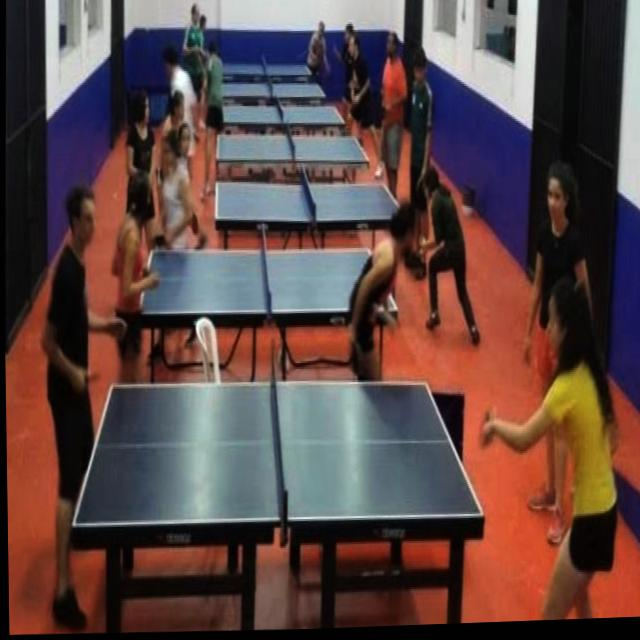TT Net: (267, 353, 289, 556), (259, 215, 274, 328), (300, 163, 317, 230), (285, 124, 297, 164), (275, 94, 285, 126), (266, 75, 275, 100), (260, 51, 267, 77)
TT Table: (69, 379, 482, 530), (138, 245, 397, 315), (214, 179, 412, 220), (215, 133, 368, 159), (222, 104, 344, 123), (216, 82, 324, 97), (215, 62, 311, 75)
